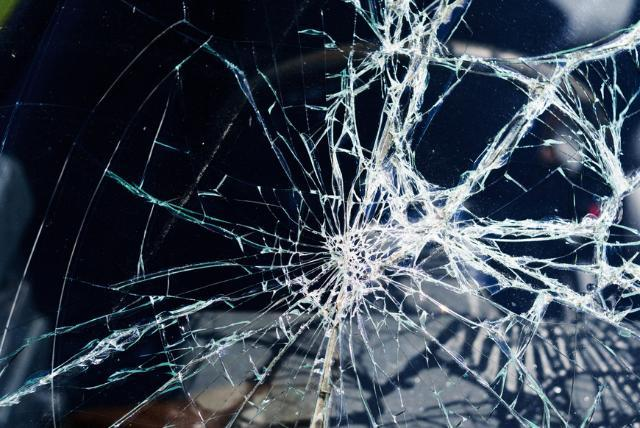Windshield: (14, 0, 636, 428)
